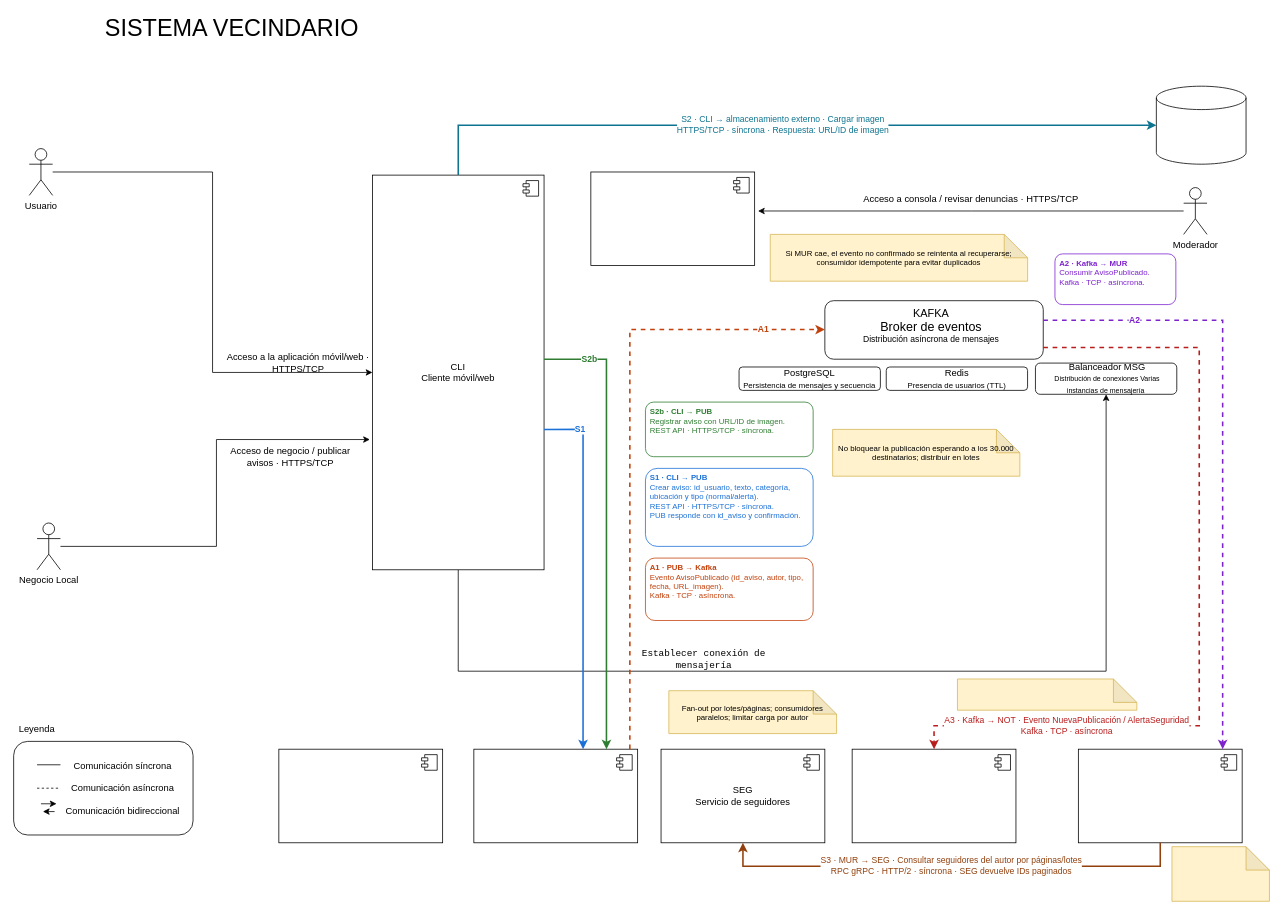
This 1283x915 diagram has some shape labels left out. Each missing label, with the box of its shape:
Alerta de seguridad: ruta prioritaria; objetivo <1 s: (957, 678, 1137, 710)
Almacenamiento externo de imágenes: (1156, 85, 1246, 164)
MOD Servicio de moderación: (590, 171, 755, 266)
MSG Servicio de mensajería directa: (278, 748, 443, 843)
MUR Servicio de muro: (1078, 748, 1242, 843)
NOT Servicio de notificaciones: (851, 748, 1016, 843)
PUB Servicio de publicaciones: (473, 748, 638, 843)
Publicación normal: objetivo ≤5 s; consistencia eventual aceptable: (1171, 846, 1269, 901)
